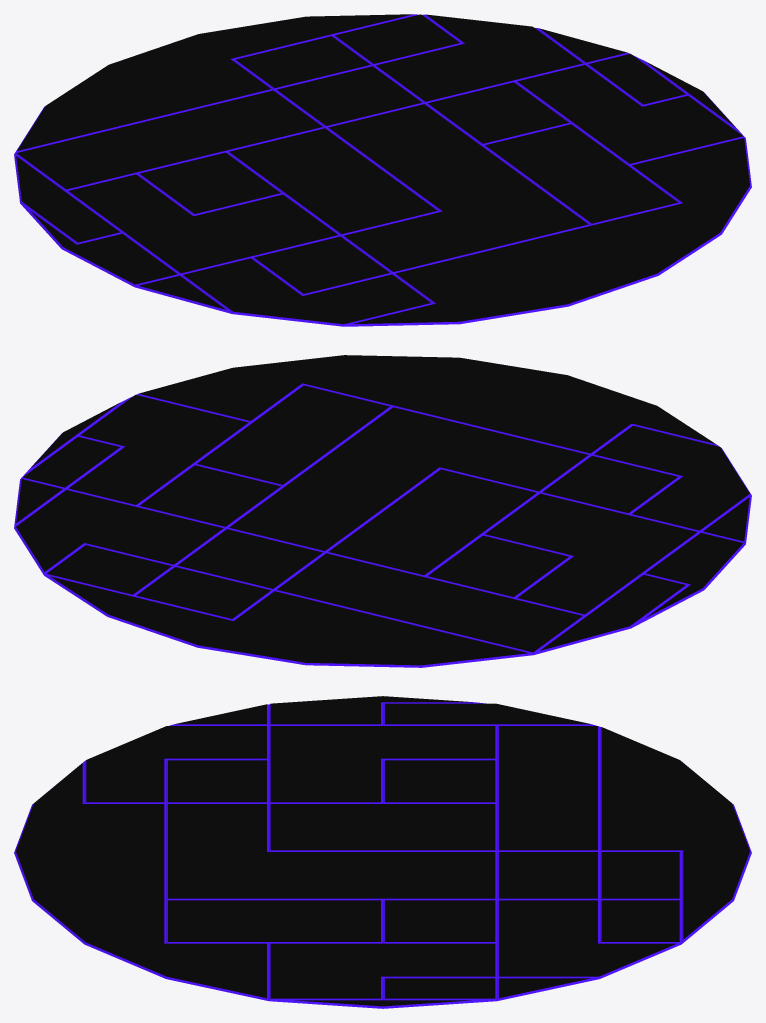
The model's file is 10ba1a21-cda0-481b-ae10-97d7d04d630b.glb.
3 views of the same model, one above another, from view 1: azimuth 30°, elevation 25°; view 2: azimuth 150°, elevation 25°; view 3: azimuth 270°, elevation 25° (orthographic).
Parts seen in each view (by area): view 1: Cyberpunk Round Tile.008; view 2: Cyberpunk Round Tile.008; view 3: Cyberpunk Round Tile.008.
Boxes of the visible parts, x1,y1,x2,y2 form: Cyberpunk Round Tile.008: [14, 14, 751, 326]; Cyberpunk Round Tile.008: [14, 355, 751, 667]; Cyberpunk Round Tile.008: [14, 696, 751, 1008].
Bounding box in the file's own units: 0.845 × 0.00211 × 0.845.
1 material, 1 textured.
